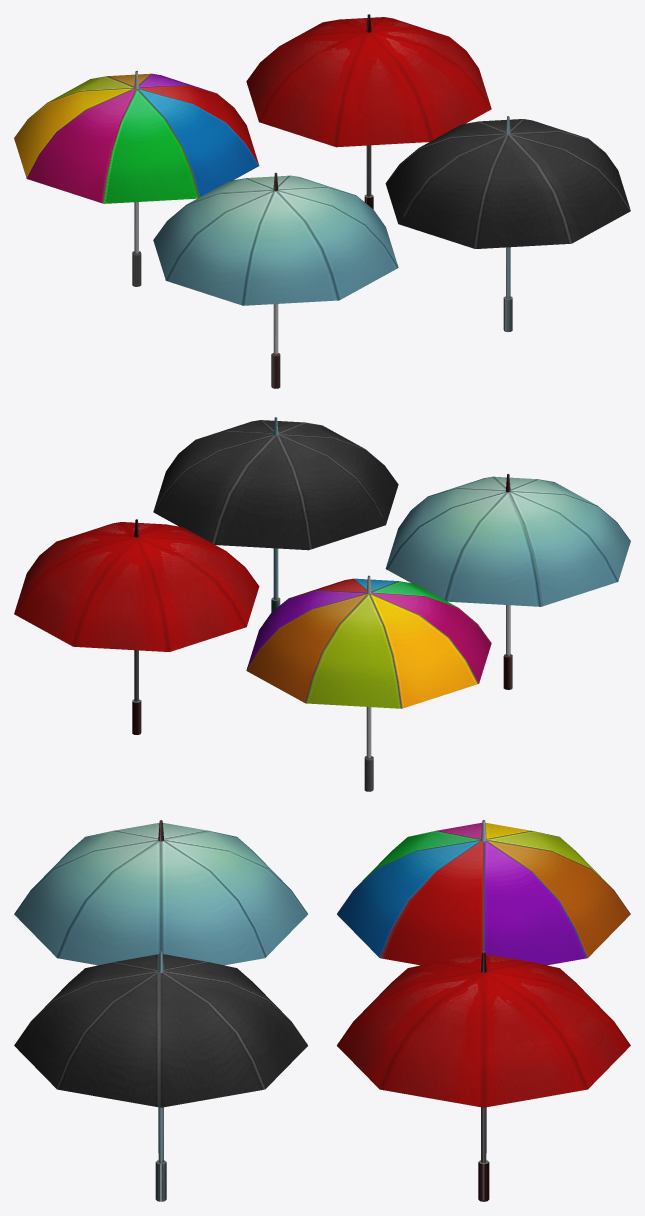
File: Prop01.FBX
3 views of the same model, one above another, from view 1: azimuth 30°, elevation 25°; view 2: azimuth 150°, elevation 25°; view 3: azimuth 270°, elevation 25° (orthographic). The views are drawn at different scales.
Visible parts, largest first — view 1: umbrella3, umbrella1, umbrella4, umbrella2; view 2: umbrella4, umbrella2, umbrella3, umbrella1; view 3: umbrella2, umbrella1, umbrella4, umbrella3.
Boxes of the visible parts, left/top/right/bottom form: umbrella3: left=153, top=172, right=398, bottom=388; umbrella1: left=385, top=116, right=630, bottom=331; umbrella4: left=14, top=71, right=259, bottom=286; umbrella2: left=246, top=14, right=491, bottom=209; umbrella4: left=246, top=575, right=491, bottom=791; umbrella2: left=14, top=519, right=259, bottom=734; umbrella3: left=385, top=474, right=630, bottom=689; umbrella1: left=153, top=417, right=398, bottom=612; umbrella2: left=337, top=951, right=630, bottom=1201; umbrella1: left=14, top=951, right=307, bottom=1201; umbrella4: left=337, top=820, right=630, bottom=965; umbrella3: left=14, top=820, right=307, bottom=965.
Size of the model in its own units: 317 by 143 by 323.
1 material, 1 textured.
